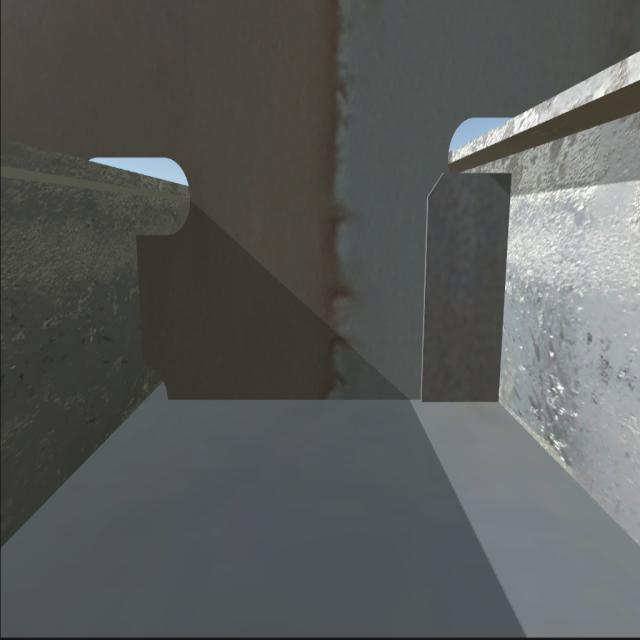fillet_hole: (135, 361, 167, 401)
fillet_yong_jeop_jang: (172, 391, 498, 404)
longi_yong_jeop_jang: (498, 174, 512, 403), (132, 239, 147, 350)
plate_CP03: (424, 178, 500, 398)
